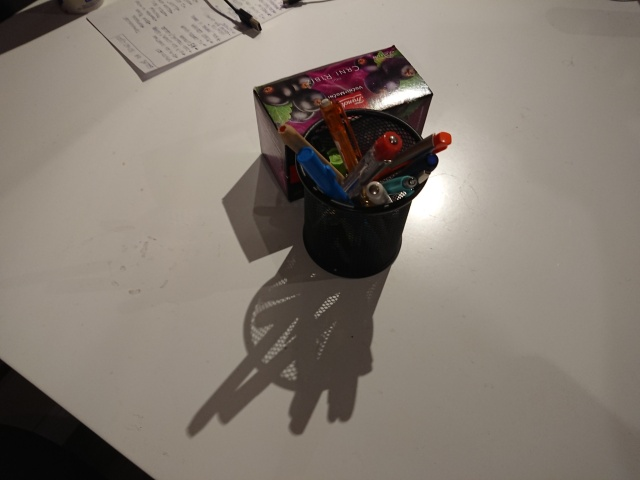Franck Black Currant Tea 60g: (249, 42, 436, 205)
